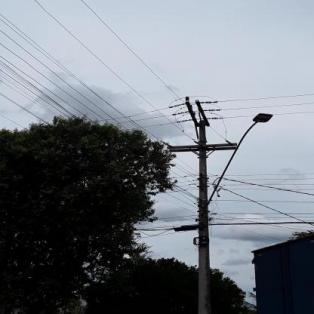Poste: (196, 117, 212, 311)
